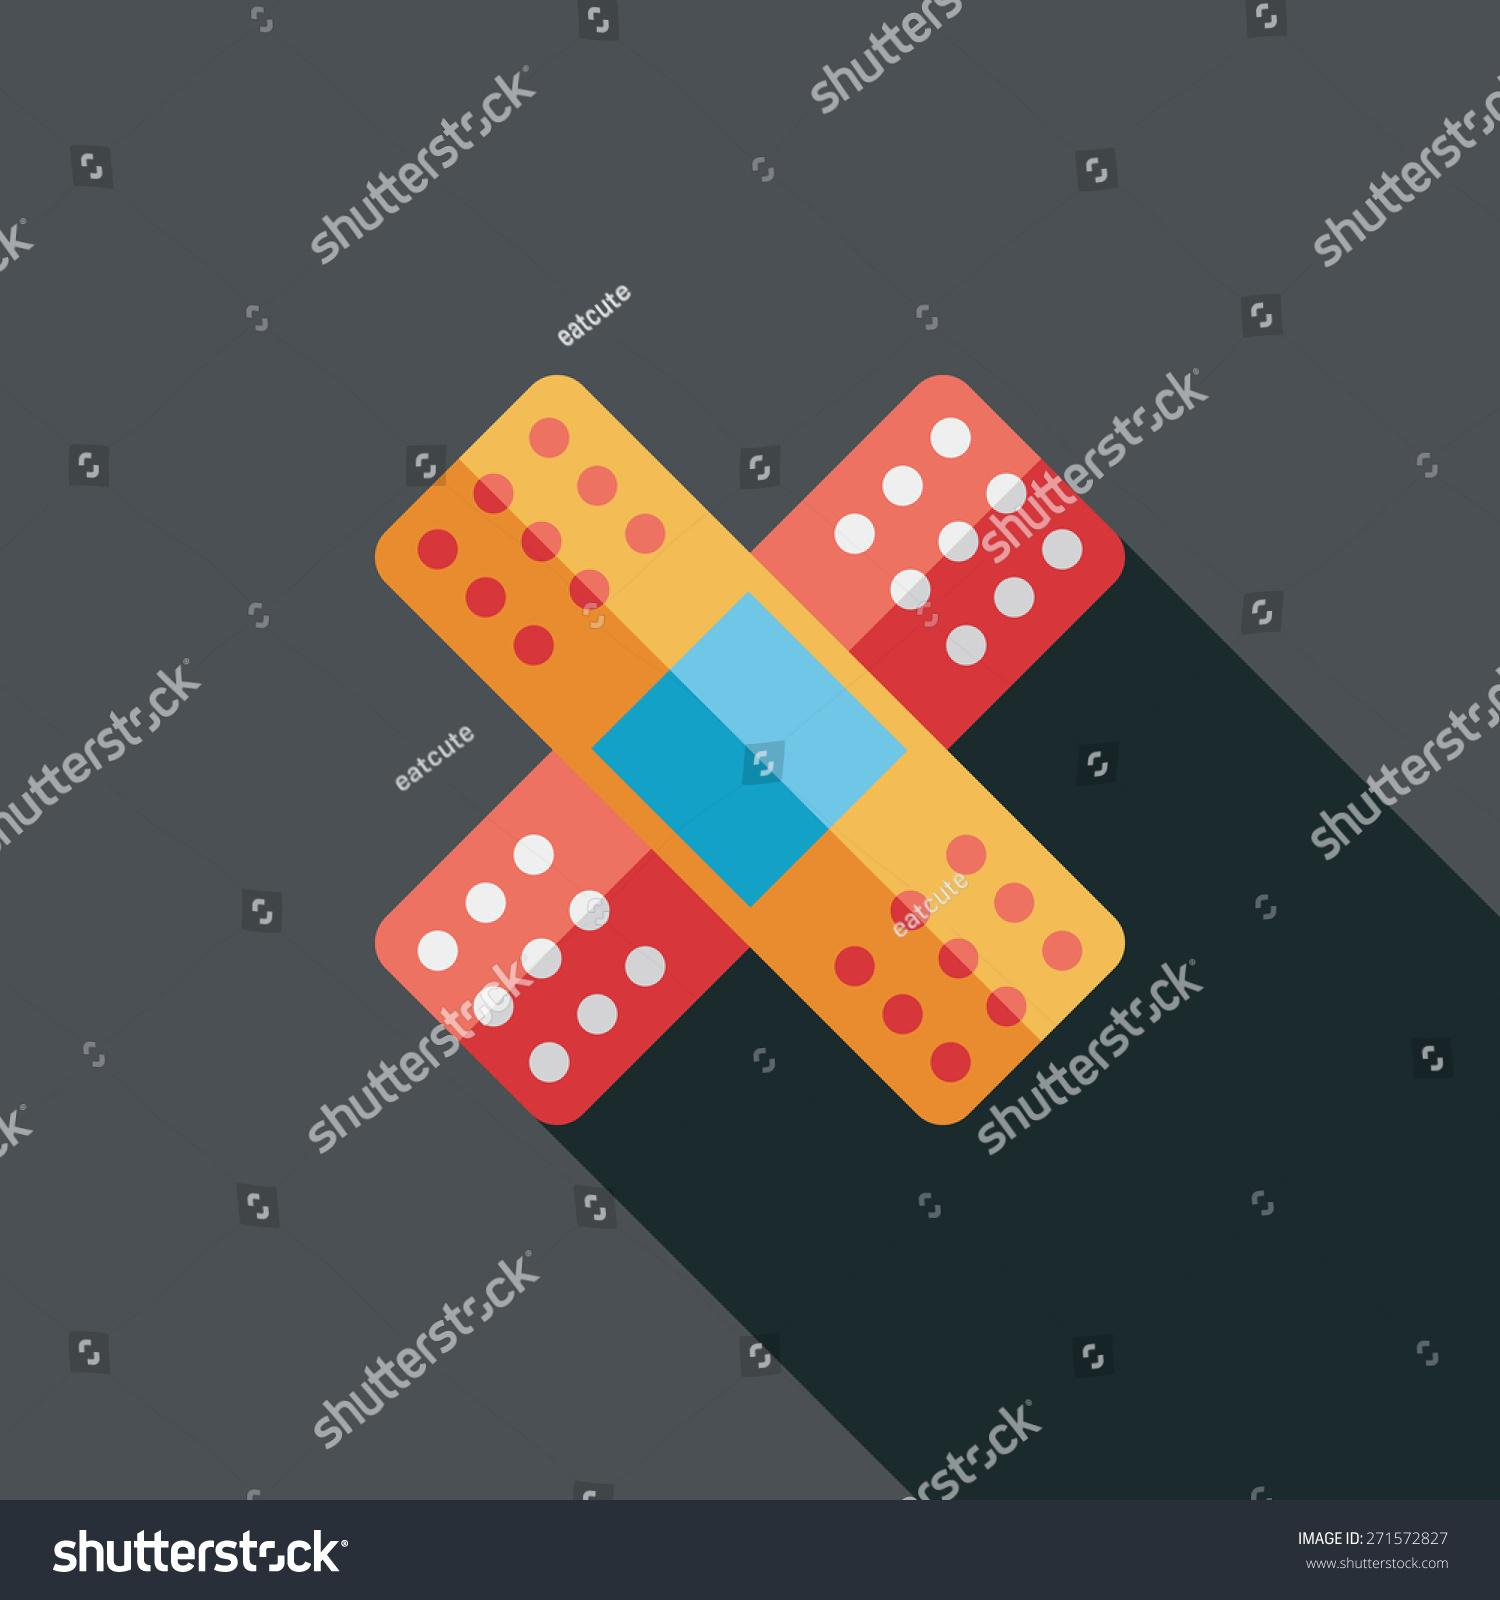bandage: (378, 368, 1128, 1124)
